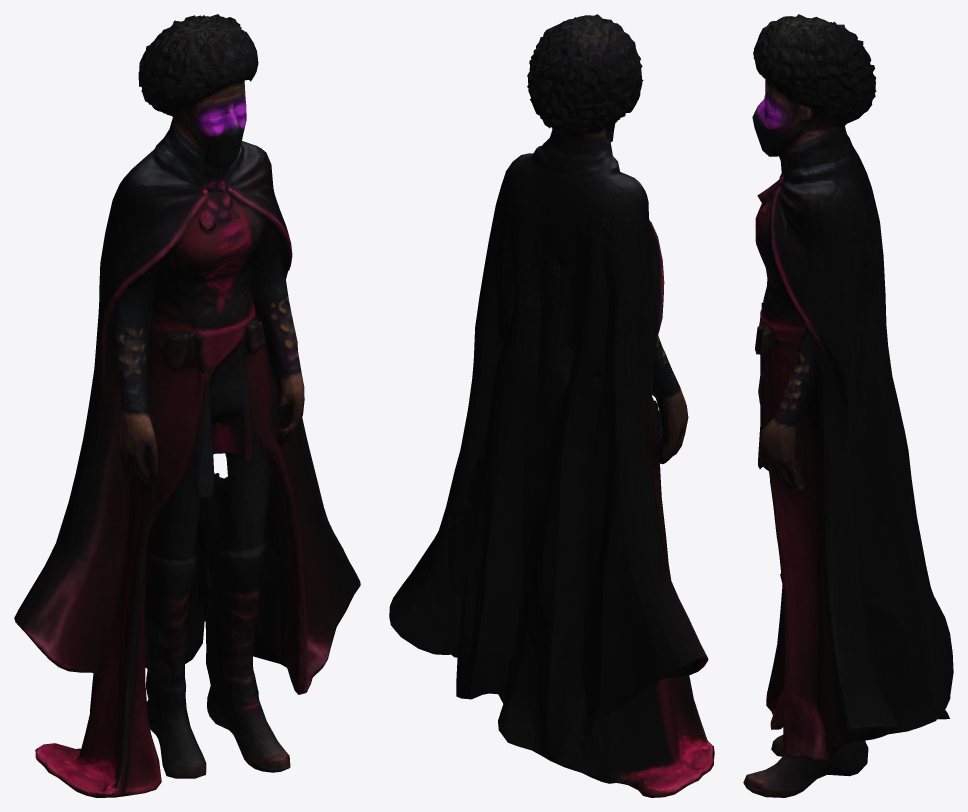
File: wanda_maximoff.glb
The picture shows the model from 3 angles, left to right: view 1: azimuth 30°, elevation 25°; view 2: azimuth 150°, elevation 25°; view 3: azimuth 270°, elevation 25°; orthographic projection. The views are drawn at different scales.
Parts seen in each view (by area): view 1: world; view 2: world; view 3: world.
Boxes of the visible parts, <box> form: world: <box>14,14,360,797</box>; world: <box>389,14,714,797</box>; world: <box>743,14,953,797</box>.
Size of the model in its own units: 0.4639 by 0.9991 by 0.2556.
Materials: 1 (1 with a texture image).
